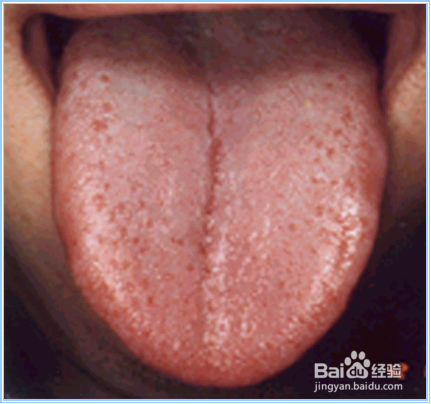baitaishe: (52, 17, 390, 386)
hongdianshe: (91, 74, 157, 305)
hongshe: (52, 17, 390, 386)
liewenshe: (196, 81, 223, 288)
